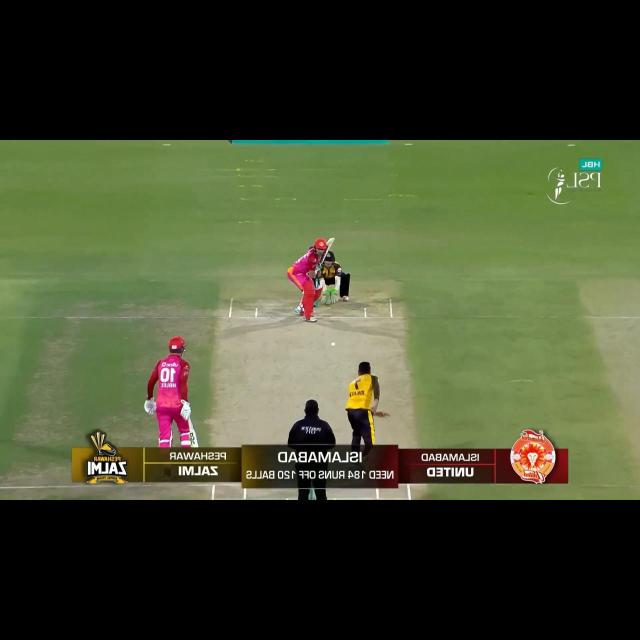bat: (318, 238, 337, 264), (188, 430, 199, 448)
toe: (324, 238, 336, 247)
